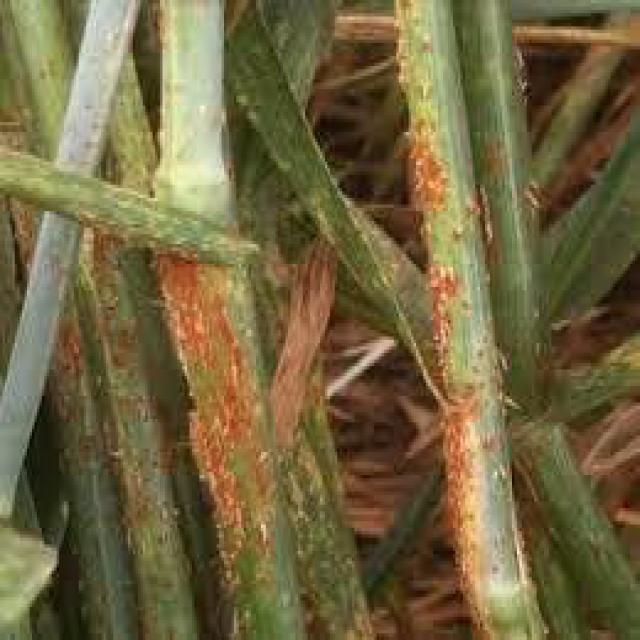wheat-stemrust: (158, 230, 282, 640), (398, 63, 489, 612), (89, 228, 178, 632), (46, 274, 105, 511)
